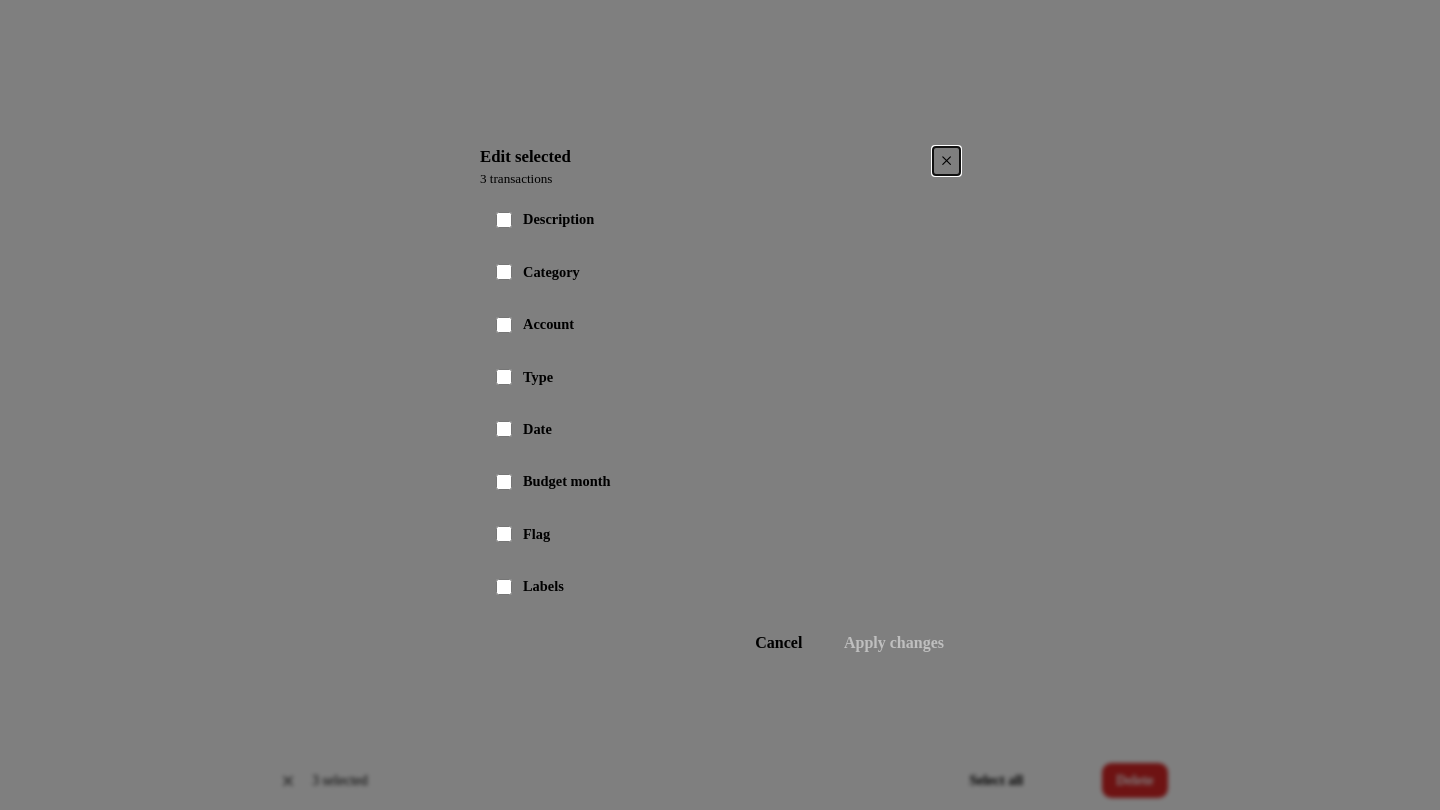
TransactionsSelectFooter bulk edit › lets a flag be made in place when it has the actions to do it
Click the checkbox labelled "Flag". click: (504, 534)
box: x1=496 y1=526 x2=512 y2=542
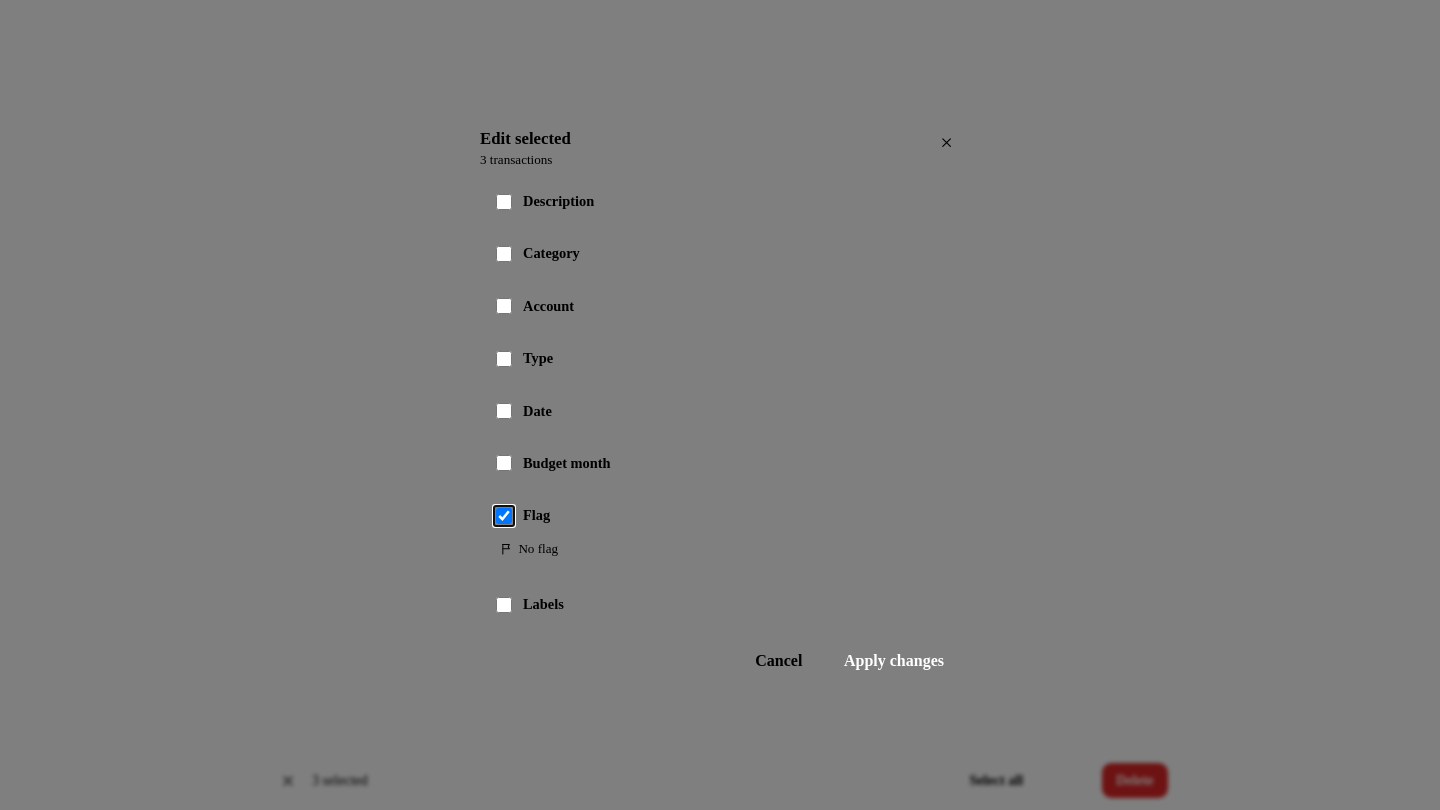
Click the button "No flag". click: (529, 549)
box: x1=492 y1=535 x2=566 y2=564
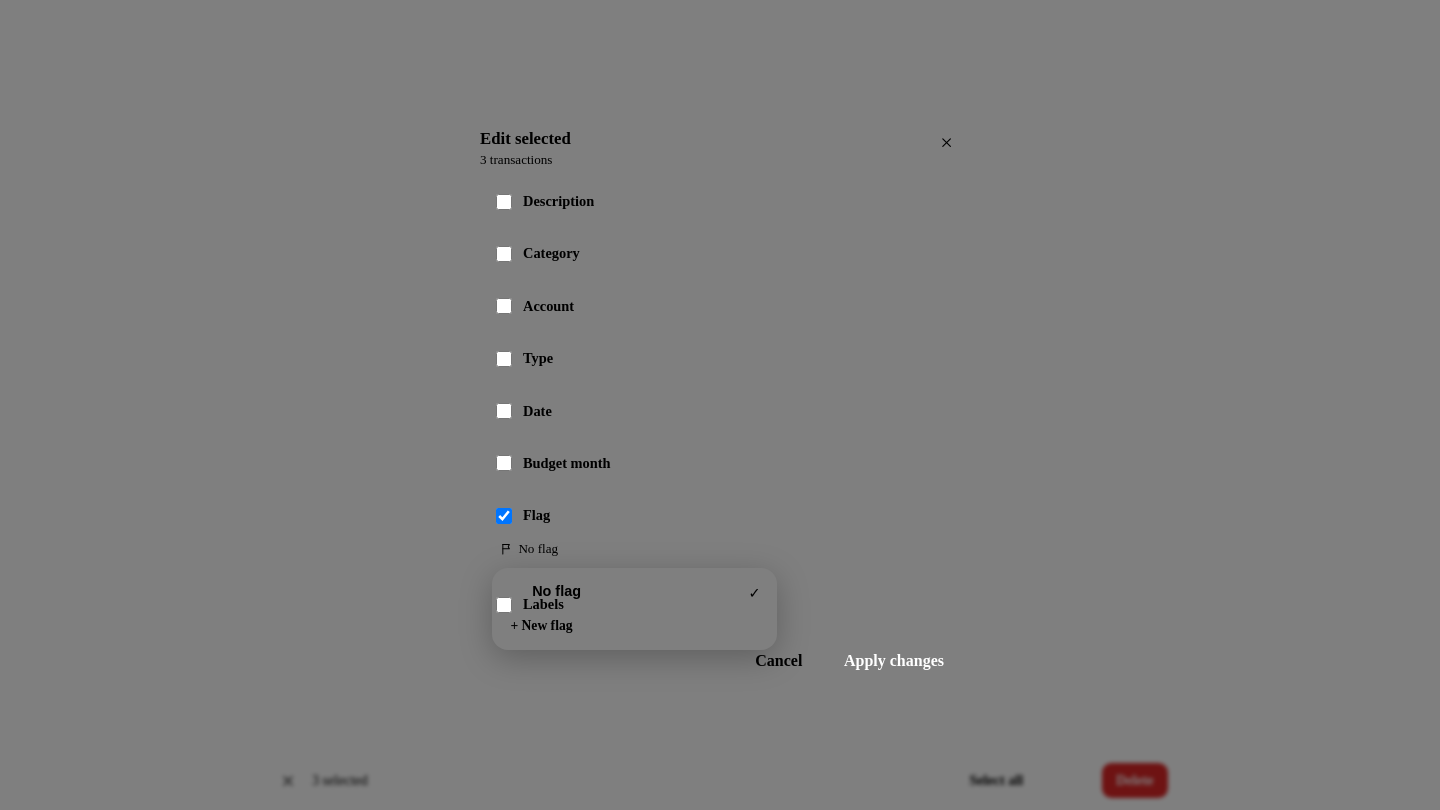
expect the button "+ New flag" is shown: met, box x1=498 y1=610 x2=770 y2=643
